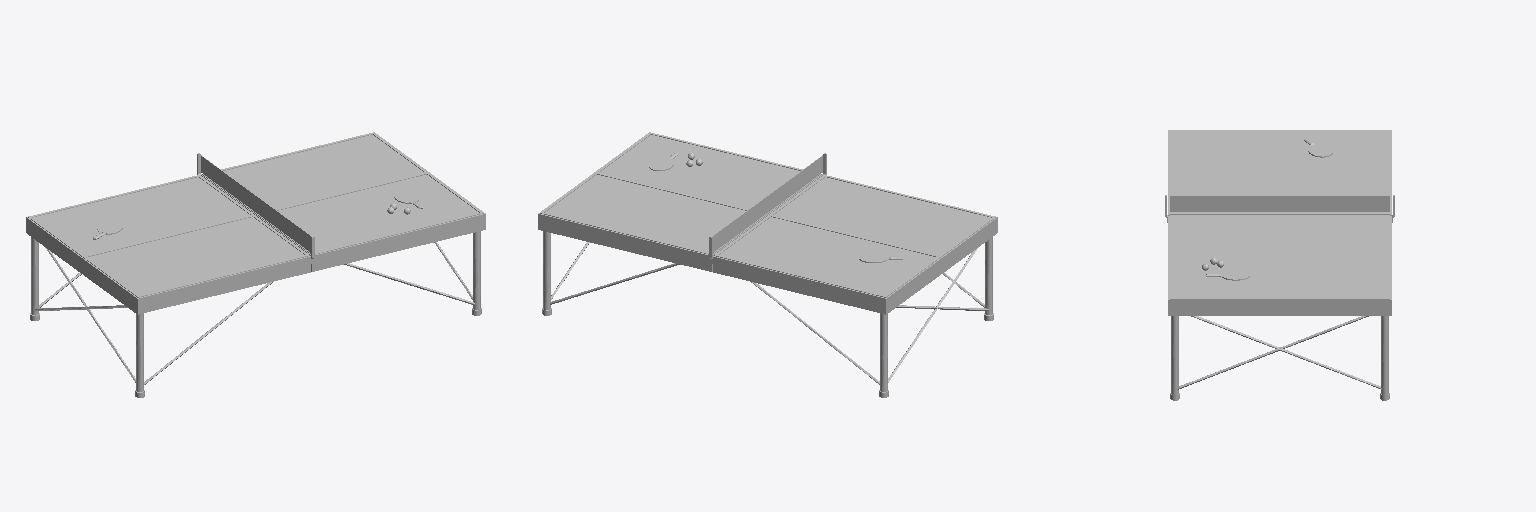
The model's file is ping pong obj.obj.
3 renders of one model, left to right at view 1: azimuth 30°, elevation 25°; view 2: azimuth 150°, elevation 25°; view 3: azimuth 270°, elevation 25°, orthographic.
Visible parts, largest first — view 1: _Extrusion__1914_, _Extrusion__2017_, _Extrusion__2589_, _Extrusion__3849_, _Extrusion__3348_, _Extrusion__2241_, _Extrusion__2249_, _Extrusion__2118_; view 2: _Extrusion__1914_, _Extrusion__2017_, _Extrusion__2589_, _Extrusion__3849_, _Extrusion__3348_, _Extrusion__2118_, _Extrusion__2221_, _Extrusion__2241_; view 3: _Extrusion__1914_, _Extrusion__3849_, _Extrusion__2017_, _Extrusion__3348_, _Extrusion__2589_, _Extrusion__3792_, _Extrusion__2221_, _Extrusion__2249_, _Extrusion__2539_, _Extrusion__2543_.
Part boxes in pixels (x1,y1,x2,y2): _Extrusion__1914_: (26, 132, 485, 300); _Extrusion__2017_: (26, 217, 485, 314); _Extrusion__2589_: (28, 175, 309, 297); _Extrusion__3849_: (202, 158, 308, 249); _Extrusion__3348_: (202, 132, 483, 254); _Extrusion__2241_: (136, 313, 143, 391); _Extrusion__2249_: (473, 231, 480, 309); _Extrusion__2118_: (31, 237, 38, 315); _Extrusion__1914_: (538, 132, 997, 300); _Extrusion__2017_: (538, 217, 997, 314); _Extrusion__2589_: (714, 175, 995, 297); _Extrusion__3849_: (715, 158, 821, 249); _Extrusion__3348_: (540, 132, 821, 254); _Extrusion__2118_: (880, 313, 887, 391); _Extrusion__2221_: (543, 231, 550, 309); _Extrusion__2241_: (985, 237, 992, 314); _Extrusion__1914_: (1168, 130, 1391, 302); _Extrusion__3849_: (1173, 197, 1386, 210); _Extrusion__2017_: (1168, 303, 1391, 315); _Extrusion__3348_: (1170, 215, 1389, 299); _Extrusion__2589_: (1170, 130, 1389, 214); _Extrusion__3792_: (1170, 195, 1389, 211); _Extrusion__2221_: (1381, 316, 1388, 394); _Extrusion__2249_: (1171, 316, 1178, 394); _Extrusion__2539_: (1178, 316, 1368, 389); _Extrusion__2543_: (1191, 316, 1381, 389).
Bounding box in the file's own units: 274 × 91.06 × 156.